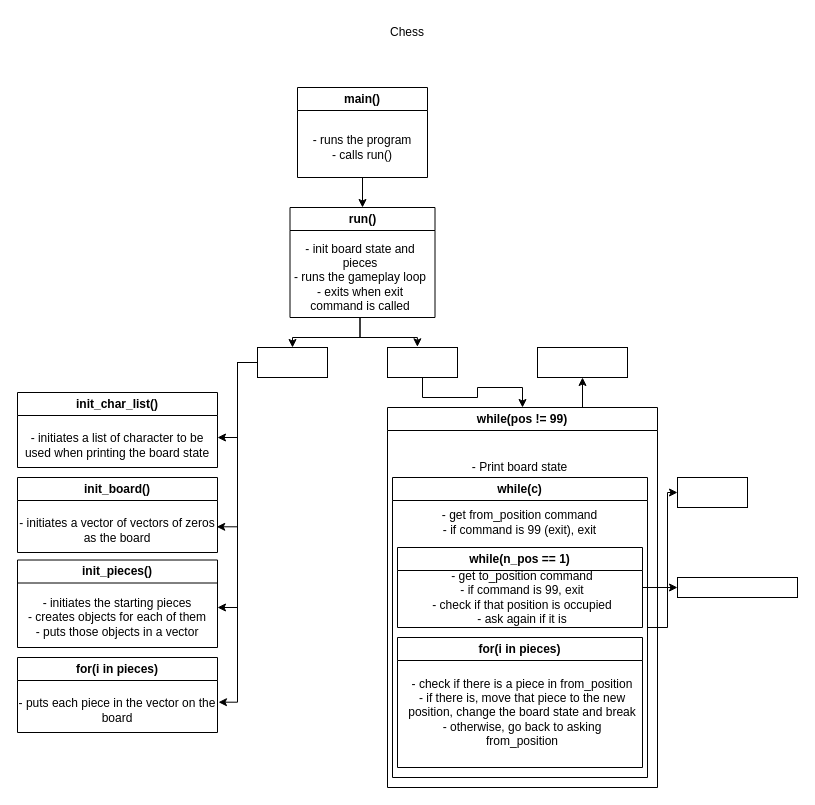
Image size: 815x805. Some labels were removed from this diagram. The centre of each missing label's shape, as x and y in pixels:
"c: boolean" belongs at point (712, 492).
"Gameplay Loop" belongs at point (422, 362).
"Init" belongs at point (292, 362).
"n_pos: new position" belongs at point (737, 587).
"pos: current position" belongs at point (582, 362).
